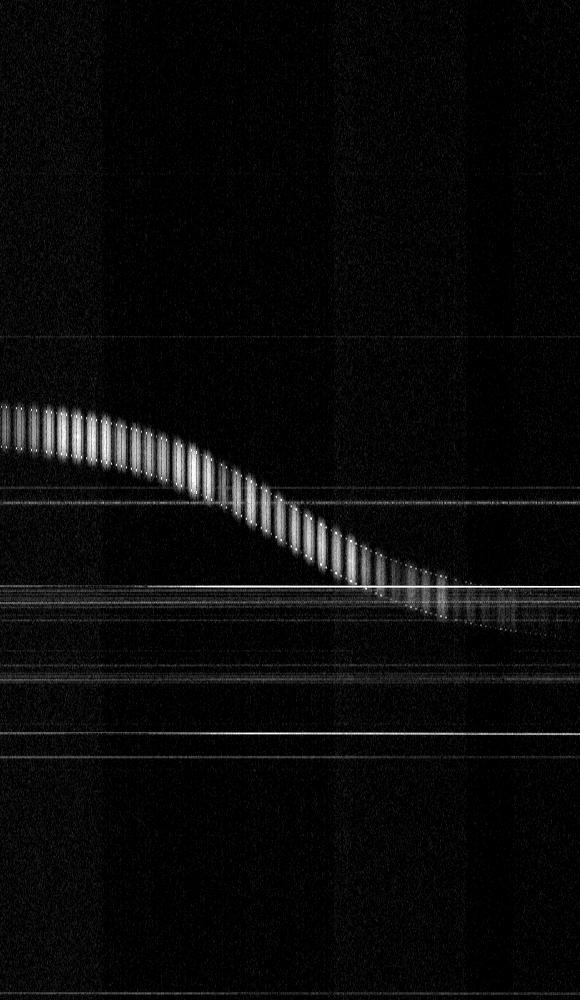signal: (0, 0, 579, 999)
